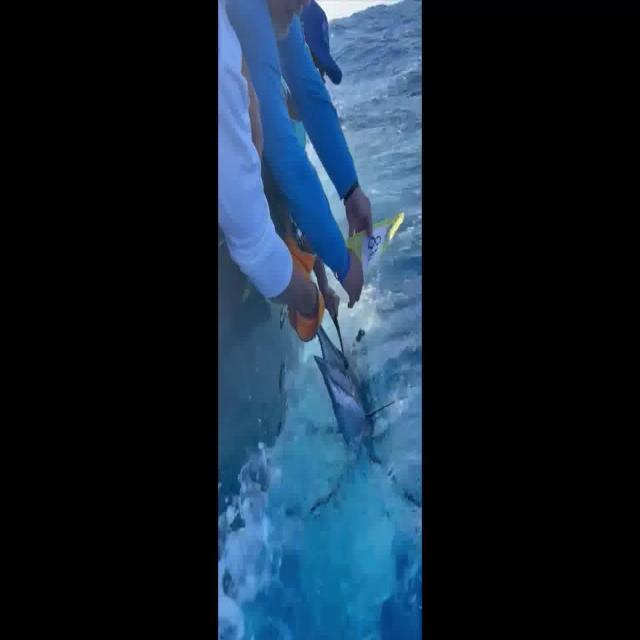Liberacion segura: (308, 298, 422, 514)
